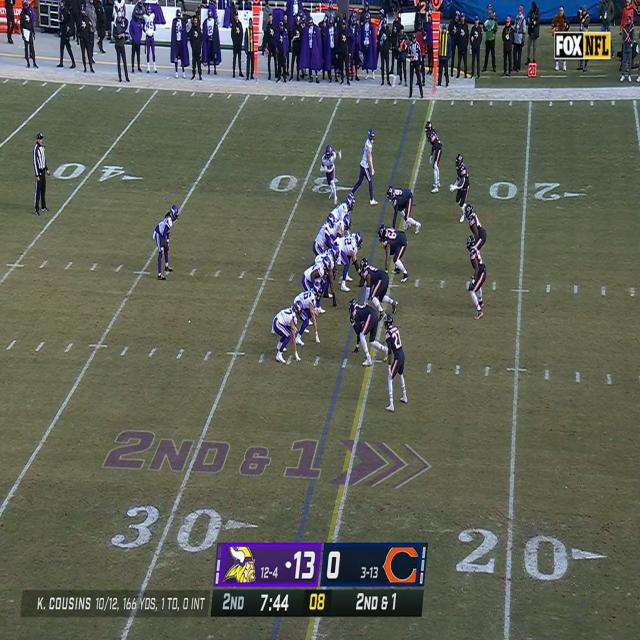football: (360, 276, 366, 288)
players: (348, 298, 388, 366), (359, 258, 398, 323), (383, 314, 408, 413), (351, 130, 379, 205), (154, 206, 180, 281), (274, 301, 304, 365), (466, 236, 487, 320), (378, 225, 408, 282), (302, 257, 332, 313), (387, 187, 422, 234), (295, 283, 321, 345), (336, 232, 363, 290), (450, 155, 470, 223), (320, 145, 342, 205), (425, 122, 443, 193), (315, 247, 340, 298), (464, 206, 487, 250), (313, 214, 335, 259), (330, 196, 354, 225), (330, 218, 353, 248)
